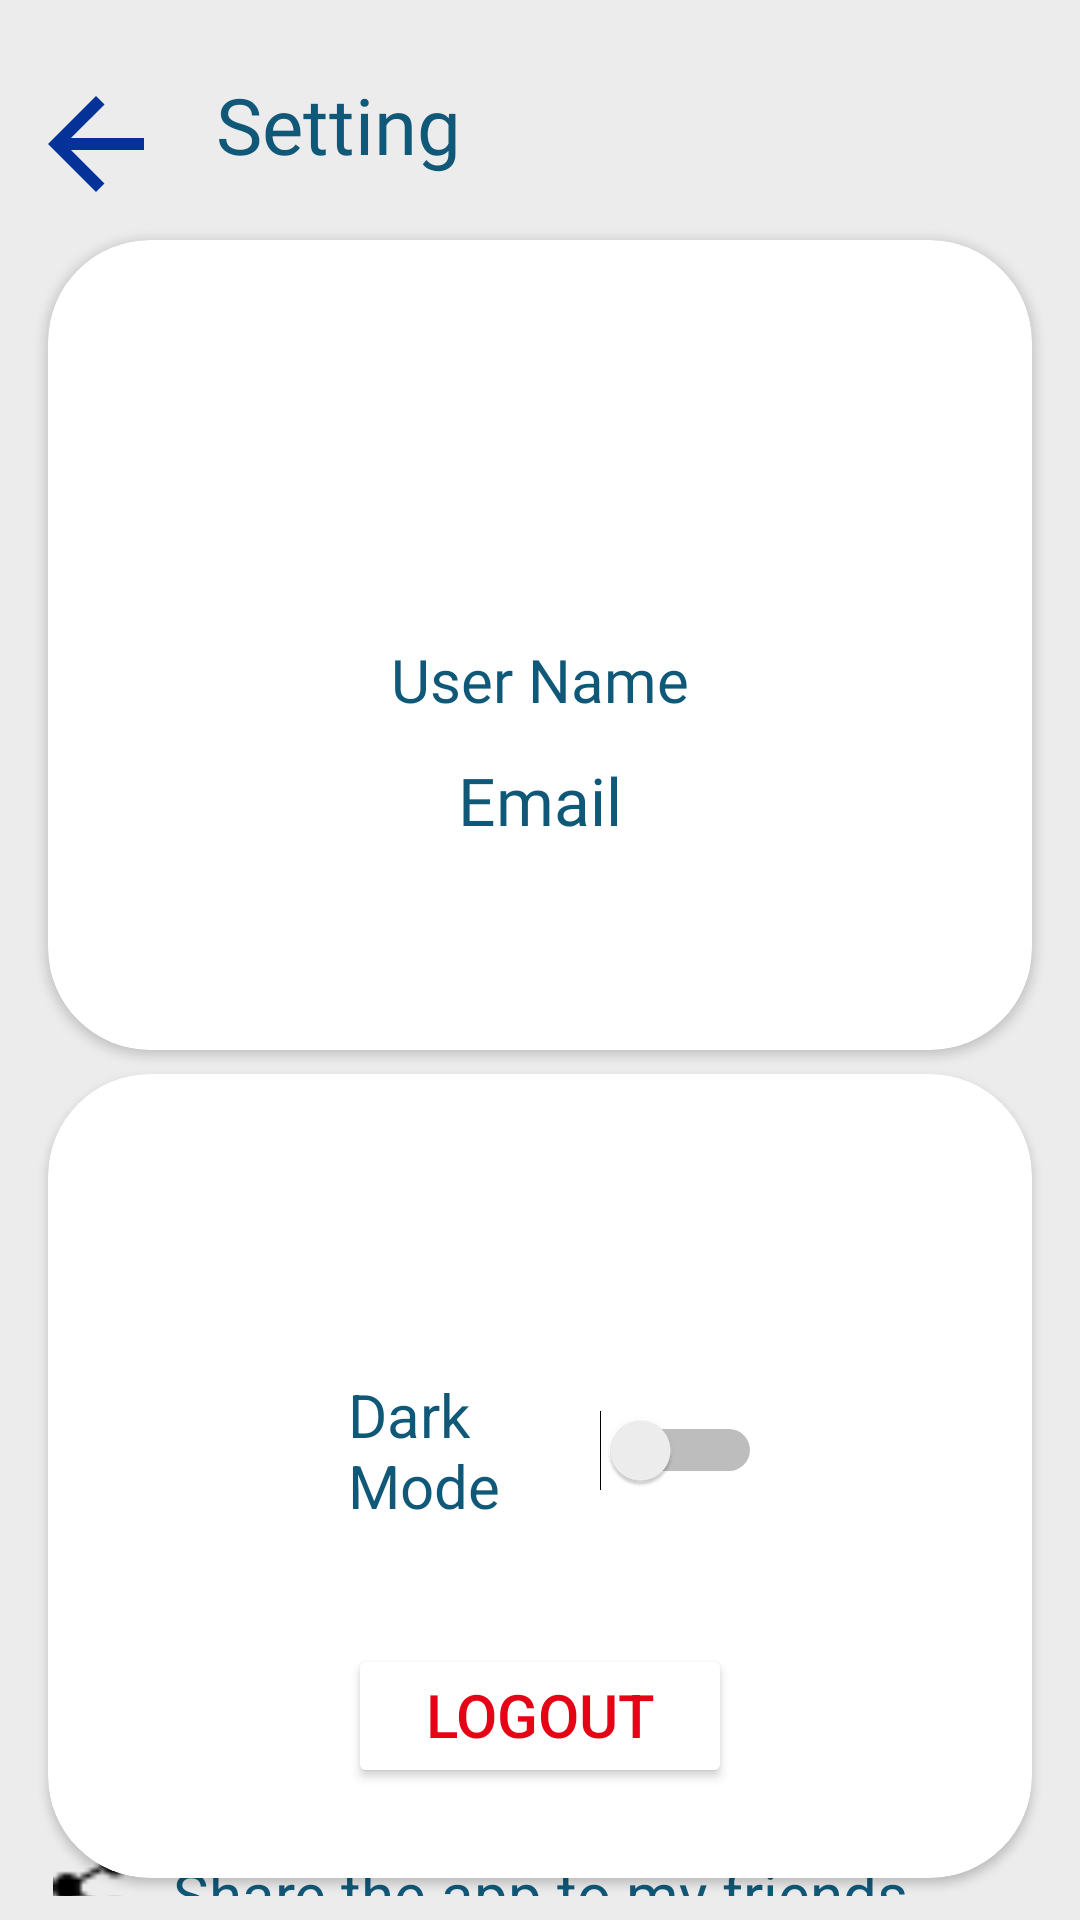

Where to tap for icons on this 1080x1920 app screen, as point (x, y):
back: point (96, 144)
